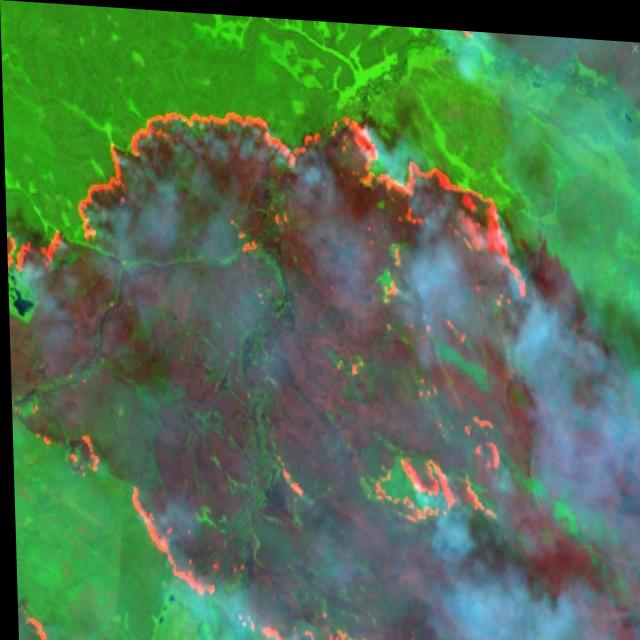fire: (2, 80, 640, 640)
